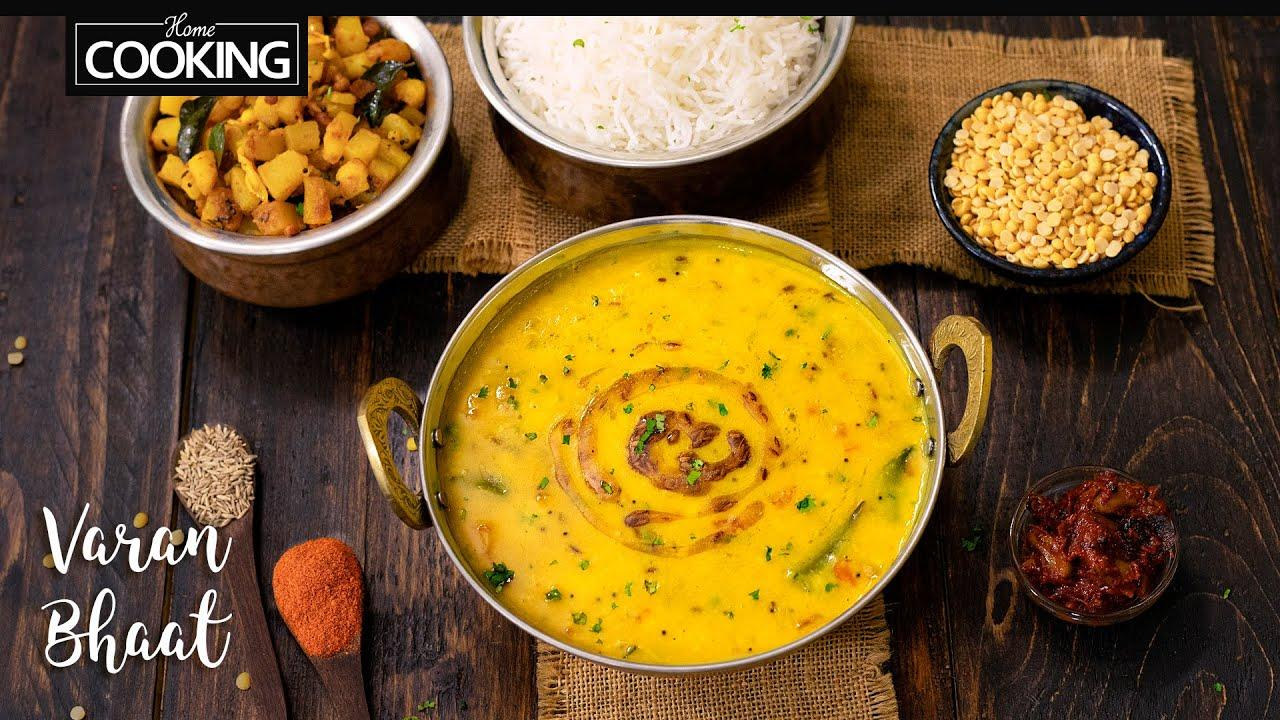rice: (476, 0, 851, 147)
varan: (481, 229, 919, 661)
